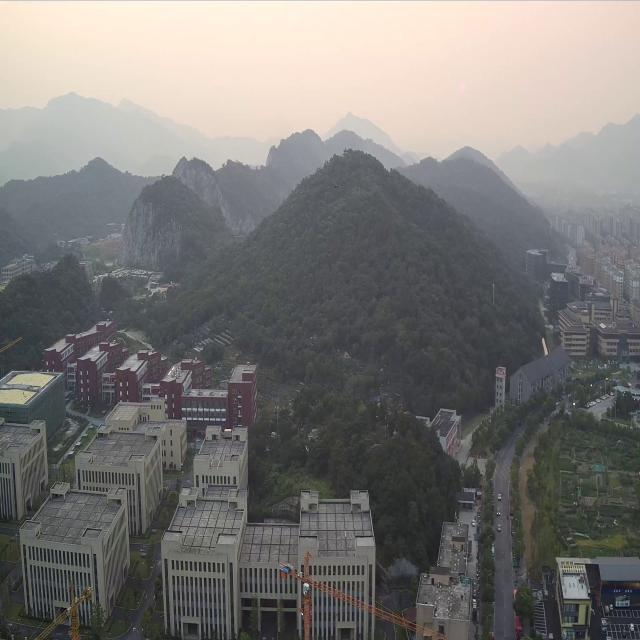UAV: (332, 182, 338, 188)
